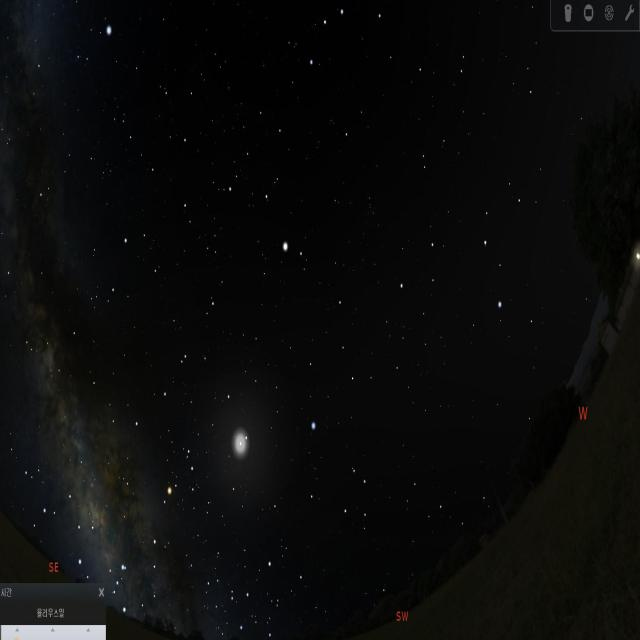bootes: (240, 102, 311, 274)
leo: (394, 182, 528, 325)
lyra: (75, 12, 114, 78)
moon: (212, 395, 261, 487)
scorpius: (109, 432, 204, 620)
